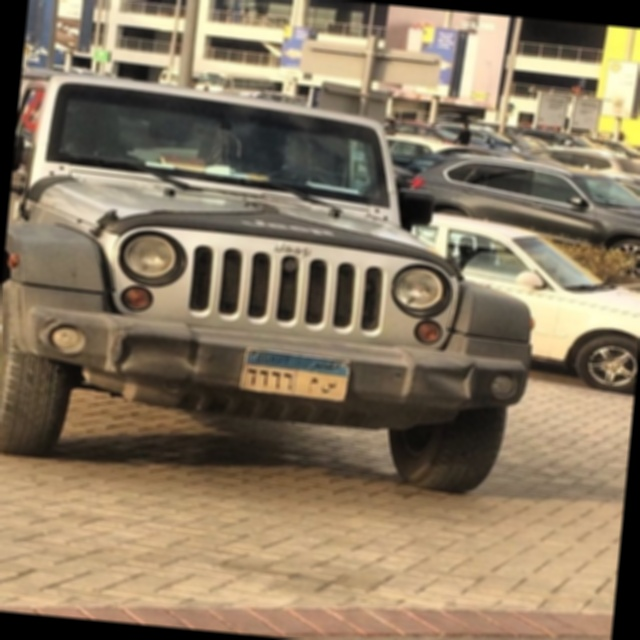License Plate: (237, 345, 354, 405)
